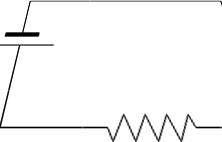resistor: (95, 98, 197, 141)
